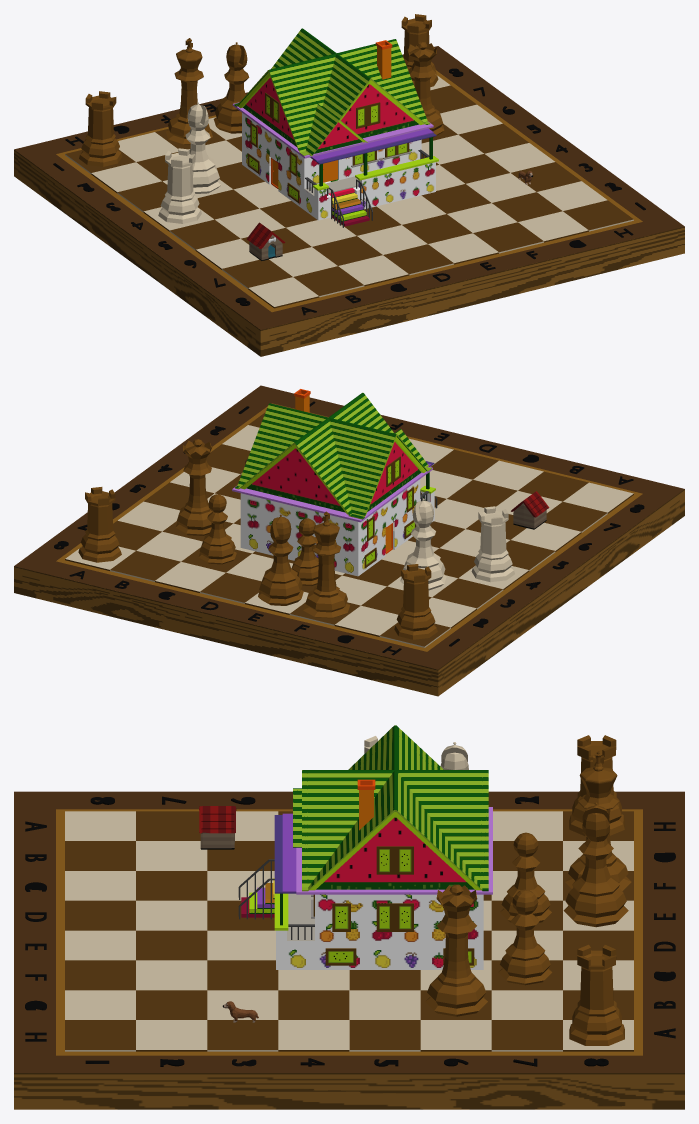
3 views of the same model, one above another, from view 1: azimuth 30°, elevation 25°; view 2: azimuth 150°, elevation 25°; view 3: azimuth 270°, elevation 25° (orthographic). The views are drawn at different scales.
Visible parts, largest first — view 1: Cube.002, Cube.1063, OBJRANDOM_DOGHOUSE; view 2: Cube.002, Cube.1063, OBJRANDOM_DOGHOUSE; view 3: Cube.002, Cube.1063, OBJRANDOM_DOGHOUSE.
Part boxes in pixels (bbox=[...]): Cube.002: bbox=[14, 14, 684, 356]; Cube.1063: bbox=[232, 28, 438, 227]; OBJRANDOM_DOGHOUSE: bbox=[247, 222, 285, 260]; Cube.002: bbox=[14, 385, 684, 696]; Cube.1063: bbox=[232, 389, 437, 576]; OBJRANDOM_DOGHOUSE: bbox=[511, 491, 549, 529]; Cube.002: bbox=[14, 735, 684, 1109]; Cube.1063: bbox=[238, 725, 492, 969]; OBJRANDOM_DOGHOUSE: bbox=[199, 806, 236, 849].
Size of the model in its own units: 3981 by 1507 by 4012.
Materials: 29 (5 with a texture image).
